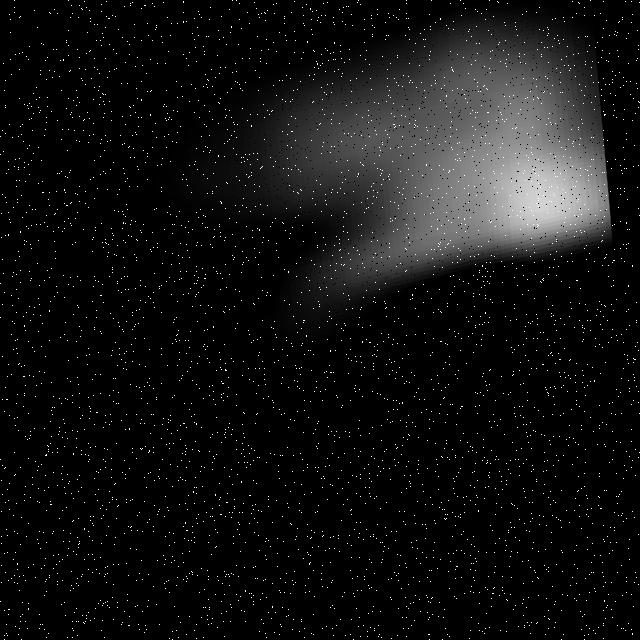person: (143, 1, 640, 362)
